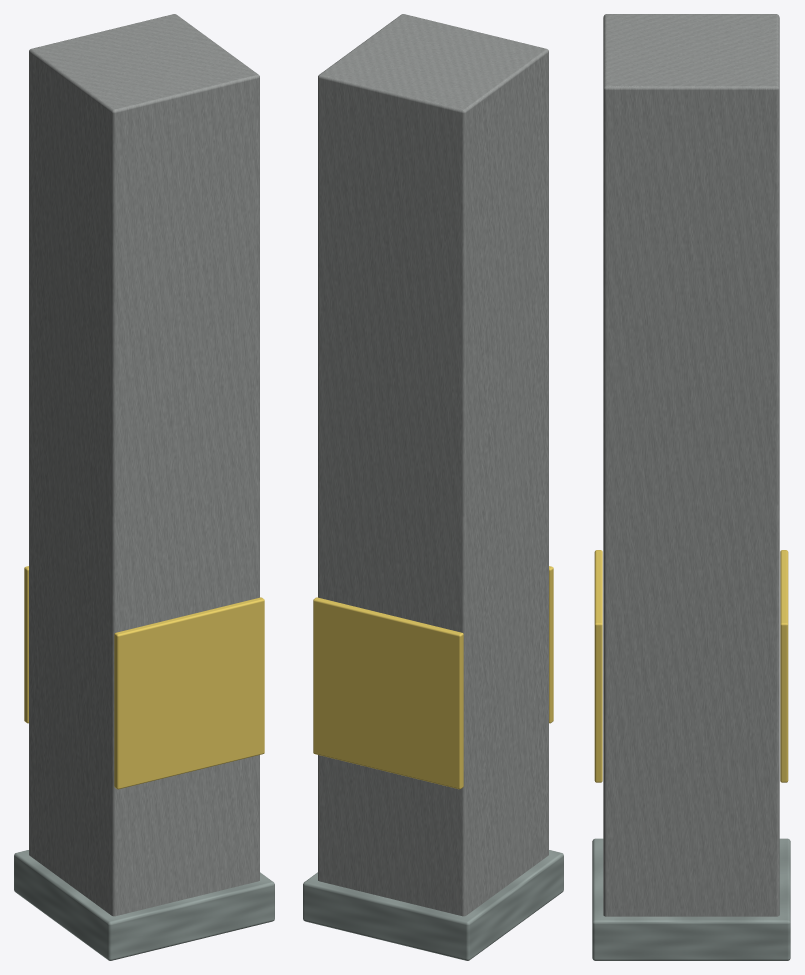
Rendered from liminal-spaces-kit-parking-pillar-f36b14b7__25305.glb.
3 renders of one model, left to right at view 1: azimuth 30°, elevation 25°; view 2: azimuth 150°, elevation 25°; view 3: azimuth 270°, elevation 25°, orthographic. The views are drawn at different scales.
Parts seen in each view (by area): view 1: parking-pillar; view 2: parking-pillar; view 3: parking-pillar.
Part boxes in pixels (box(x1,y1,x2,y2)): parking-pillar: box(14, 14, 274, 960); parking-pillar: box(303, 14, 563, 960); parking-pillar: box(592, 14, 790, 960).
Bounding box in the file's own units: 0.62 × 3 × 0.62.
Materials: 3 (2 with a texture image).
